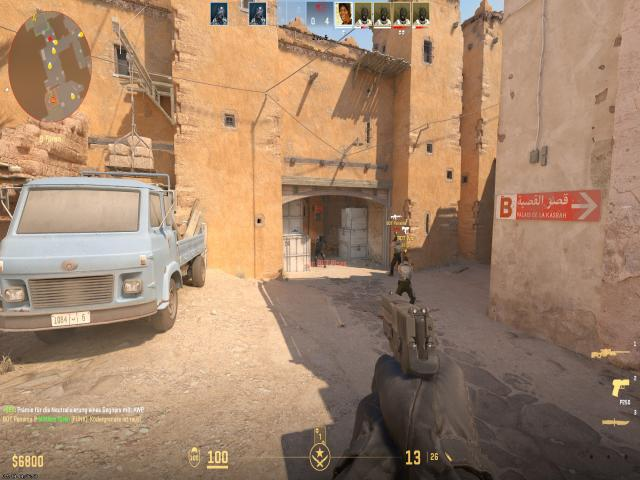CT: (315, 234, 326, 267)
CT-Head: (319, 234, 323, 240)
T: (399, 256, 415, 303), (391, 236, 401, 276)
T-Head: (402, 256, 409, 265), (394, 236, 399, 242)
